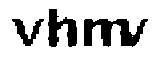h: (44, 5, 78, 50)
m: (80, 17, 130, 51)
v: (8, 16, 44, 50), (117, 17, 149, 48)
